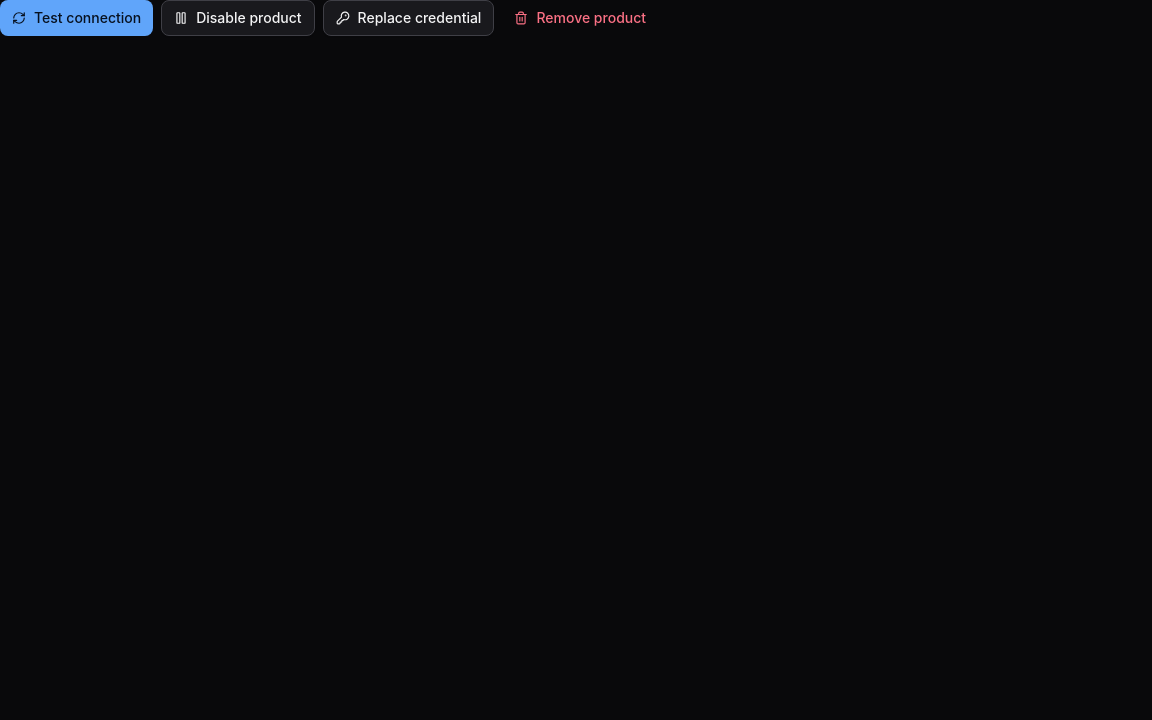
Test: product management UI › reports a lost mutation response as unknown and never retries it
The width and height of the screenshot is (1152, 720).
What coordinates should you click on to do the following:
click the button "Disable product"
I would click on:
 (238, 18)
Its box is top-left (161, 0), bottom-right (315, 36).
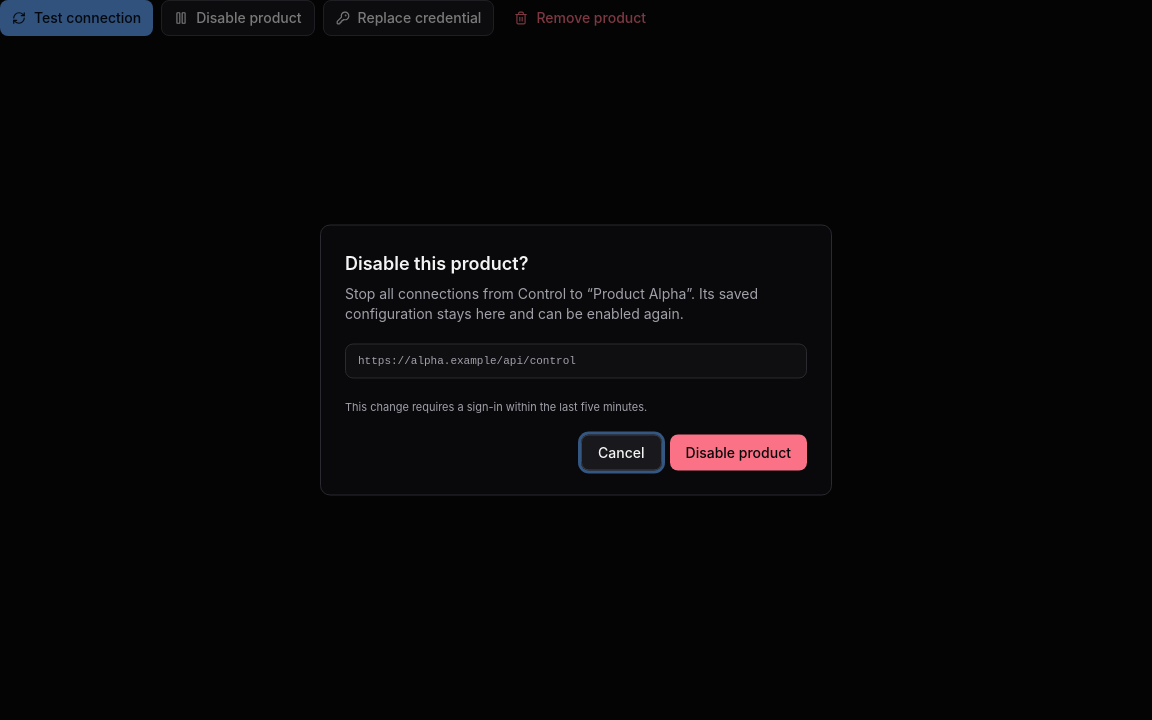
What coordinates should you click on to do the following:
click the button "Disable product"
I would click on:
 (738, 452)
Its box is top-left (670, 434), bottom-right (807, 470).
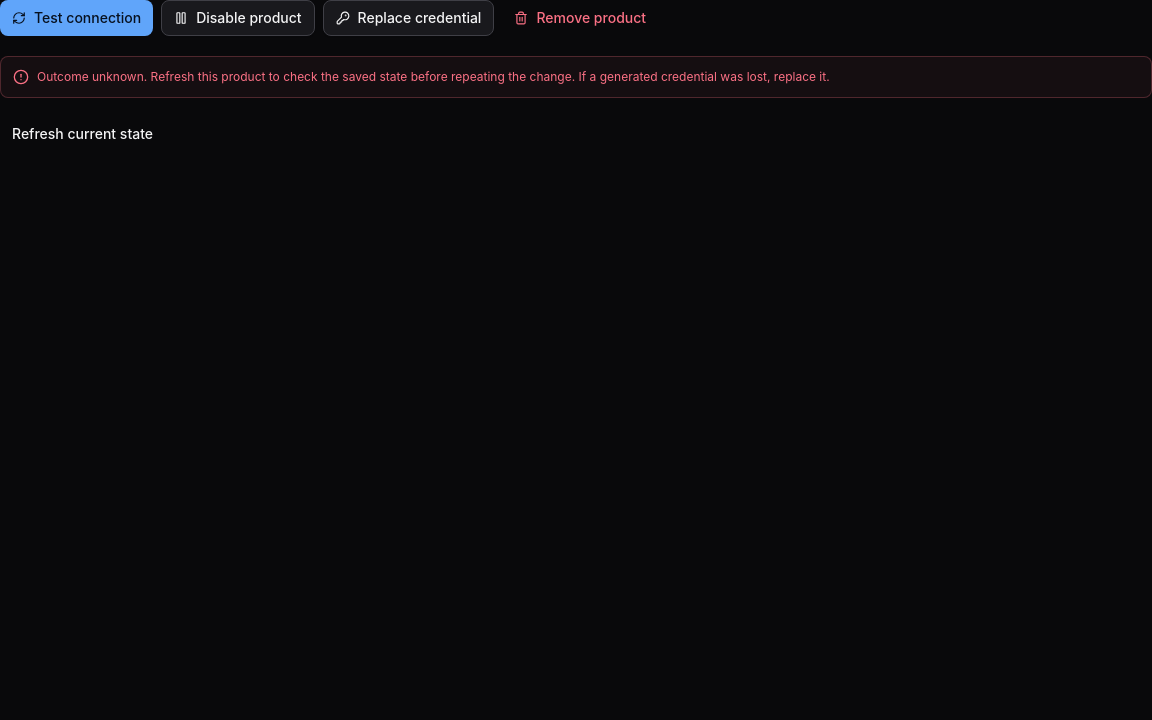
Now the message shows "Outcome unknown", box top-left (37, 69), bottom-right (830, 84)
